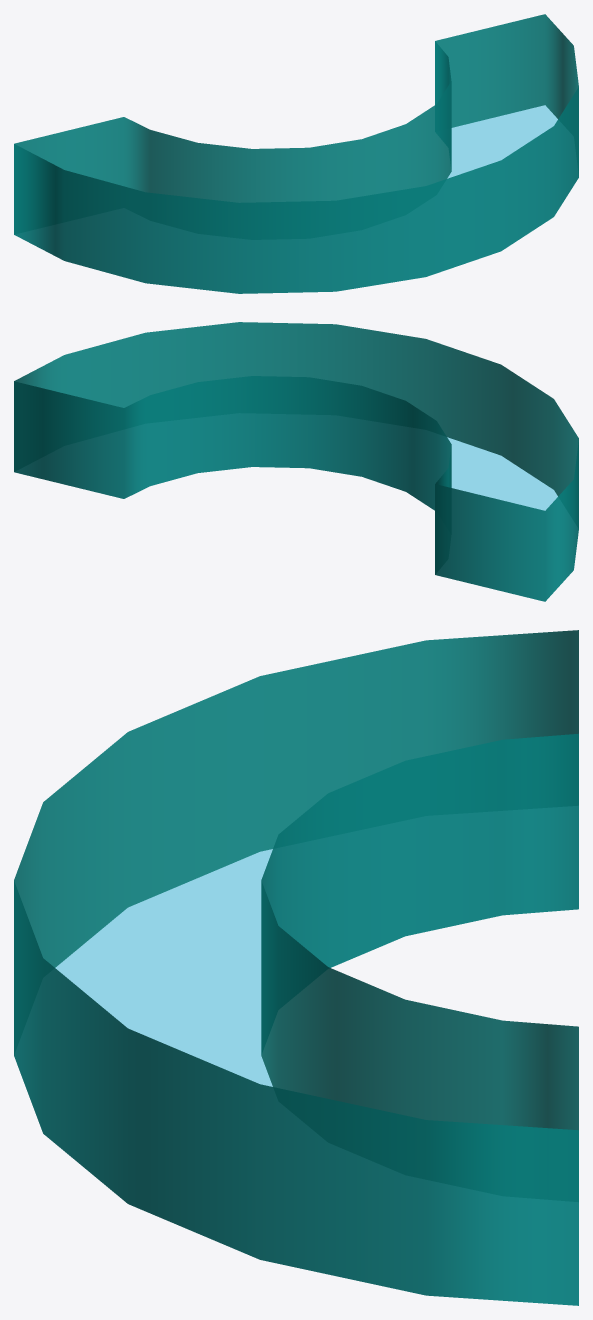
File: MemoryRoom_Table.fbx
3 views of the same model, one above another, from view 1: azimuth 30°, elevation 25°; view 2: azimuth 150°, elevation 25°; view 3: azimuth 270°, elevation 25° (orthographic). The views are drawn at different scales.
Visible parts, largest first — view 1: MemoryRoom_Table; view 2: MemoryRoom_Table; view 3: MemoryRoom_Table.
Part boxes in pixels (<box>): MemoryRoom_Table: <box>14,14,578,293</box>; MemoryRoom_Table: <box>14,322,578,601</box>; MemoryRoom_Table: <box>14,630,578,1305</box>.
Bounding box in the file's own units: 2.45 × 0.4011 × 1.17.
